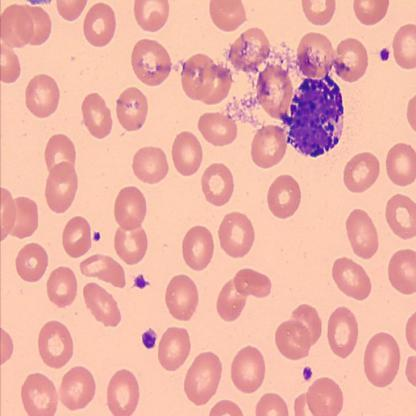Basophil: (281, 70, 348, 162)
